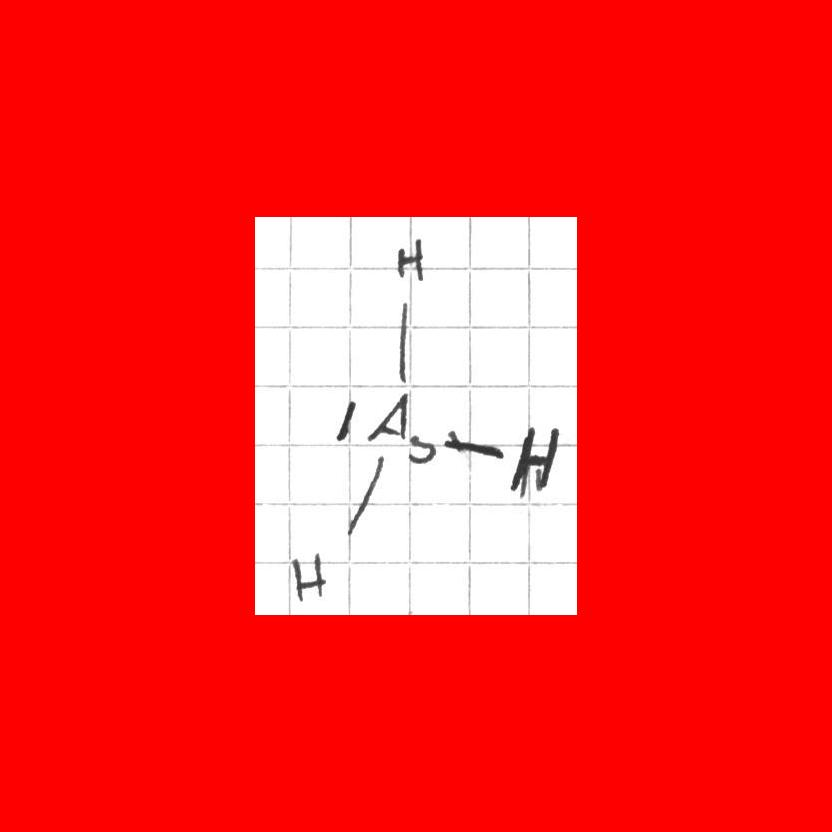Char: (510, 416, 559, 499), (342, 452, 386, 536), (388, 295, 421, 390), (366, 391, 410, 445), (288, 545, 328, 603), (440, 427, 503, 458), (395, 233, 425, 284), (334, 396, 358, 445), (408, 430, 437, 466)
